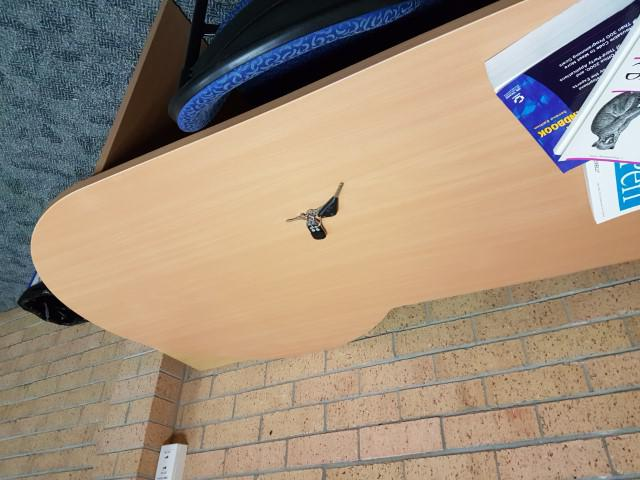key: (319, 180, 343, 218)
